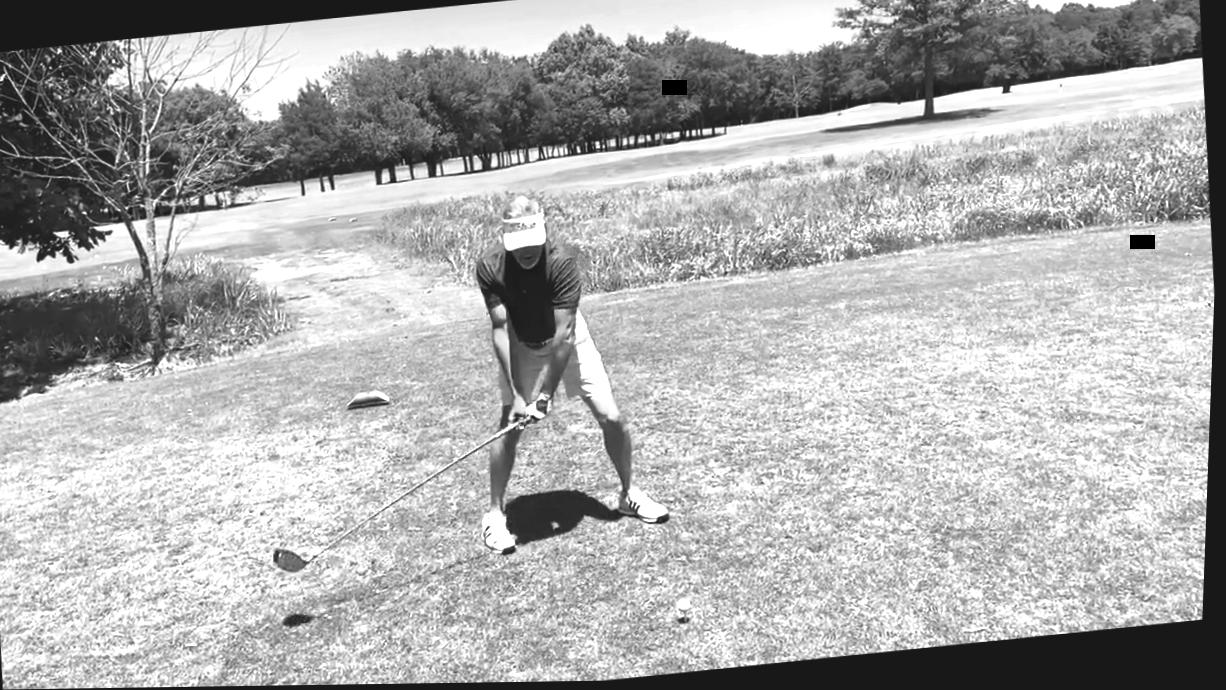ClubHead: (274, 543, 323, 580)
GolfBall: (678, 597, 698, 616)
